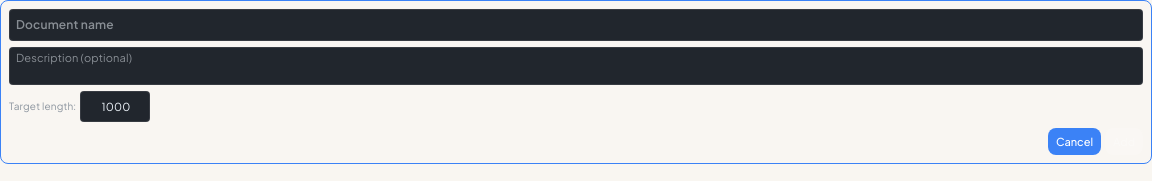
Test case: InlineAddForm › enables Add button when name has content
The image size is (1152, 181).
Type "My Doc" into the field with test id "inline-add-name".
click(576, 25); type("My Doc")  # box [16,12,1136,38]
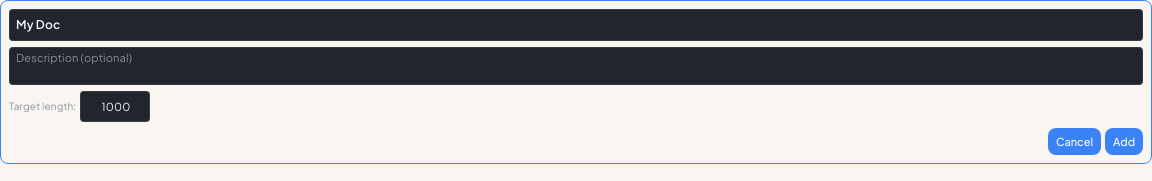
Expected: the button with test id "inline-add-submit" is enabled, [1105,128,1143,155]
